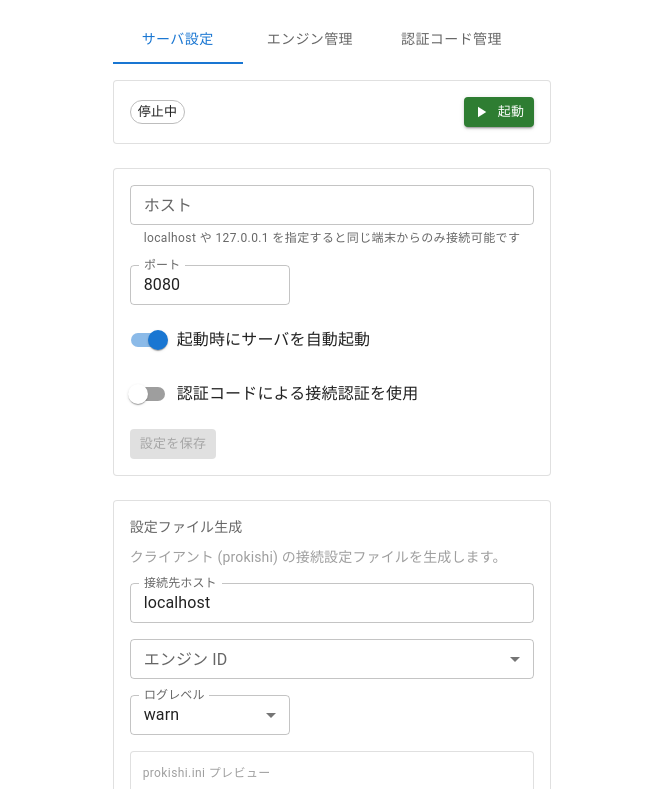
Scenario: MasterView › registers a new engine from the path/name fields and refreshes the engine list
Click the tab "エンジン管理" at coordinates (310, 40), box [243,16,377,64]
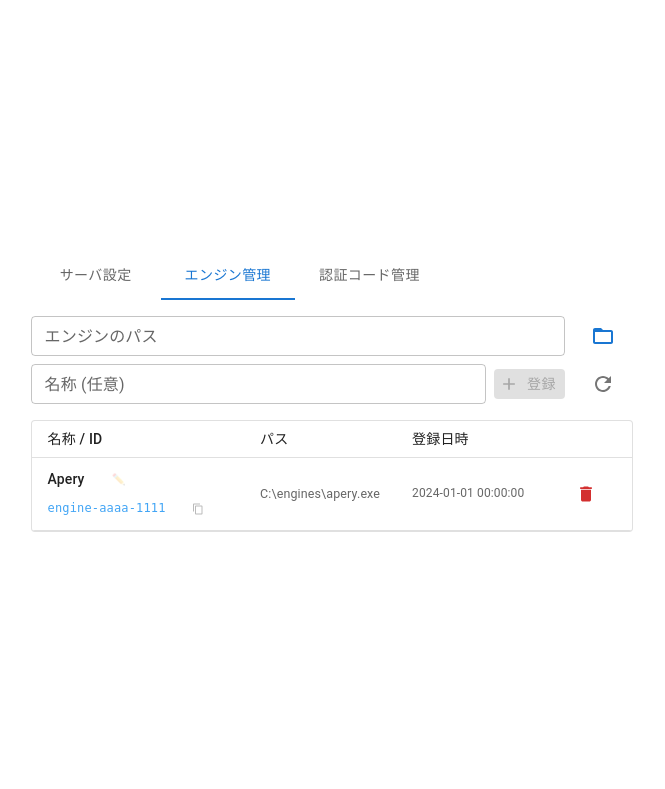
Check: the text "Apery" is shown, box [48,468,84,490]
Type "C:\\engines\\yaneuraou.exe" into the field labelled "エンジンのパス" at coordinates (298, 336), box [31,316,565,356]
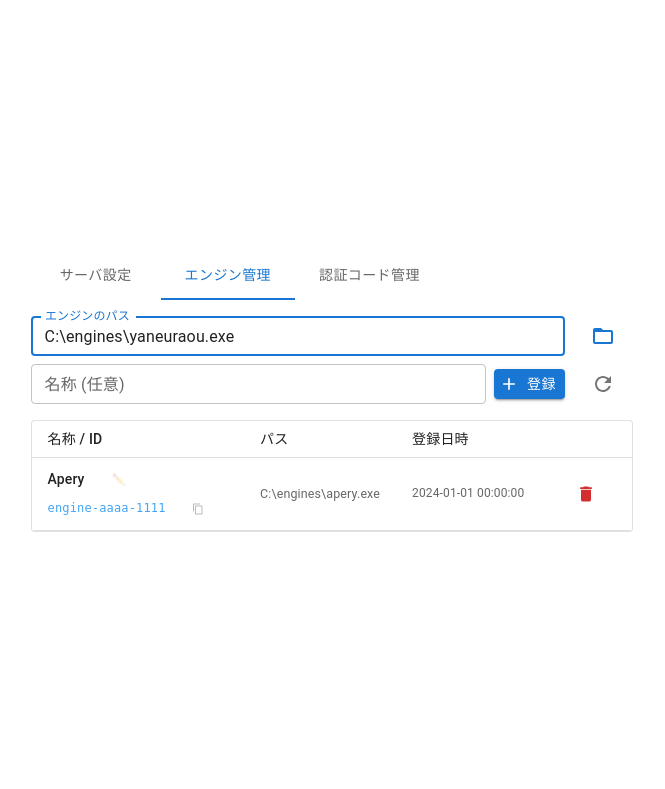
Type "YaneuraOu" into the field labelled "名称 (任意)" at coordinates (258, 384), box [31,364,486,404]
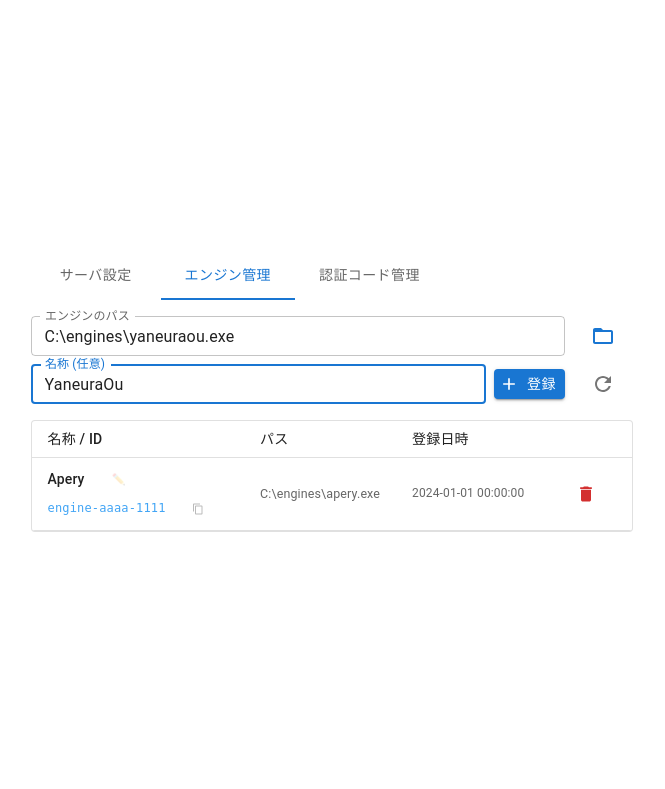
Click the button "登録" at coordinates (529, 384), box [494,369,565,399]
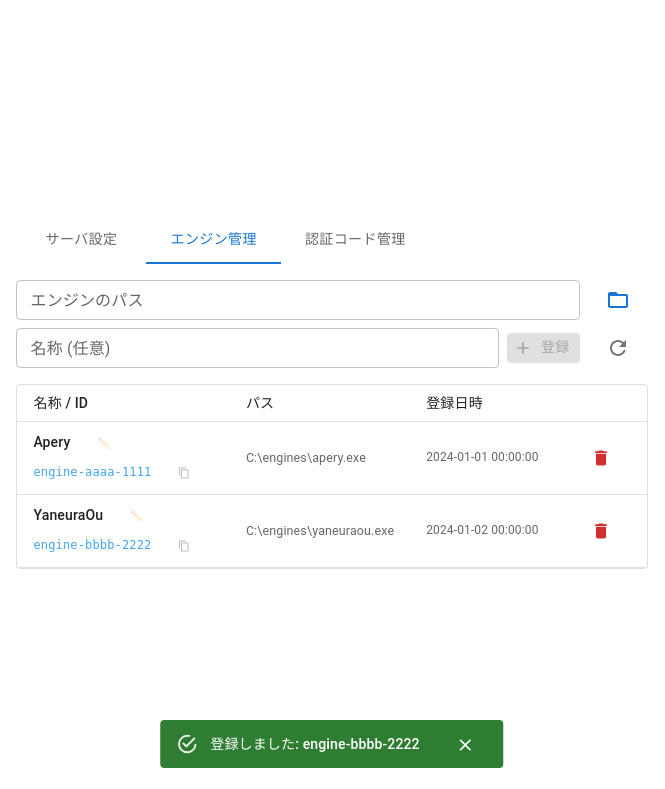
Check: the text "登録しました: engine-bbbb-2222" is shown, box [210,736,420,752]
Check: the text "YaneuraOu" is shown, box [34,505,103,526]
